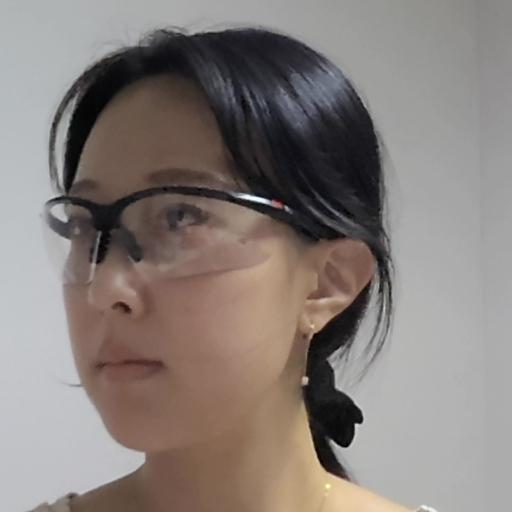glasses: (32, 26, 401, 451)
